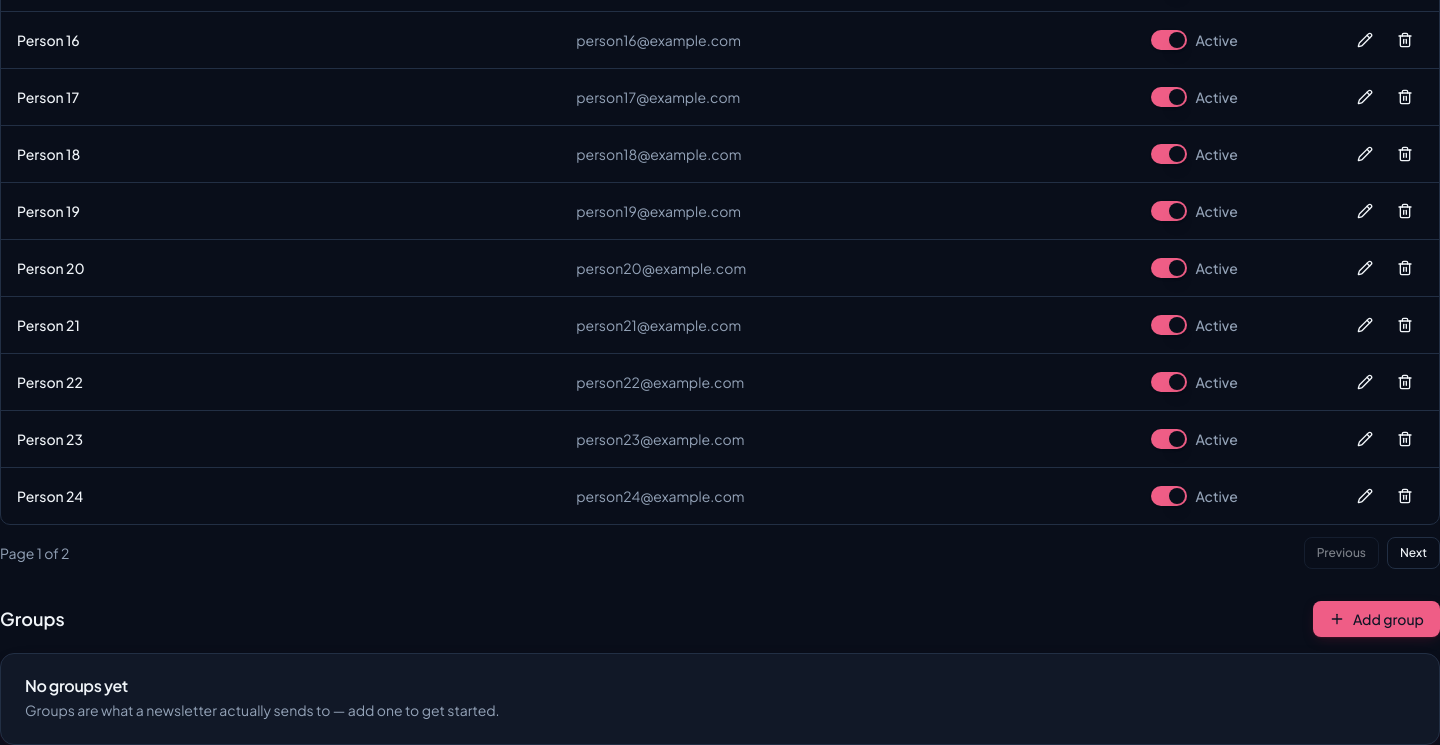
Test: RecipientsPage › paginates a large recipient list with Previous/Next controls
(page scrolled)
Expected: the text "Person 24" is shown, [17,487,83,505]
Expected: the text "Person 25" is not shown
What coordinates should you click on to do the following:
click the button "Next"
I would click on:
 (1414, 553)
Its box is [1387,537,1439,569].
(page scrolled)
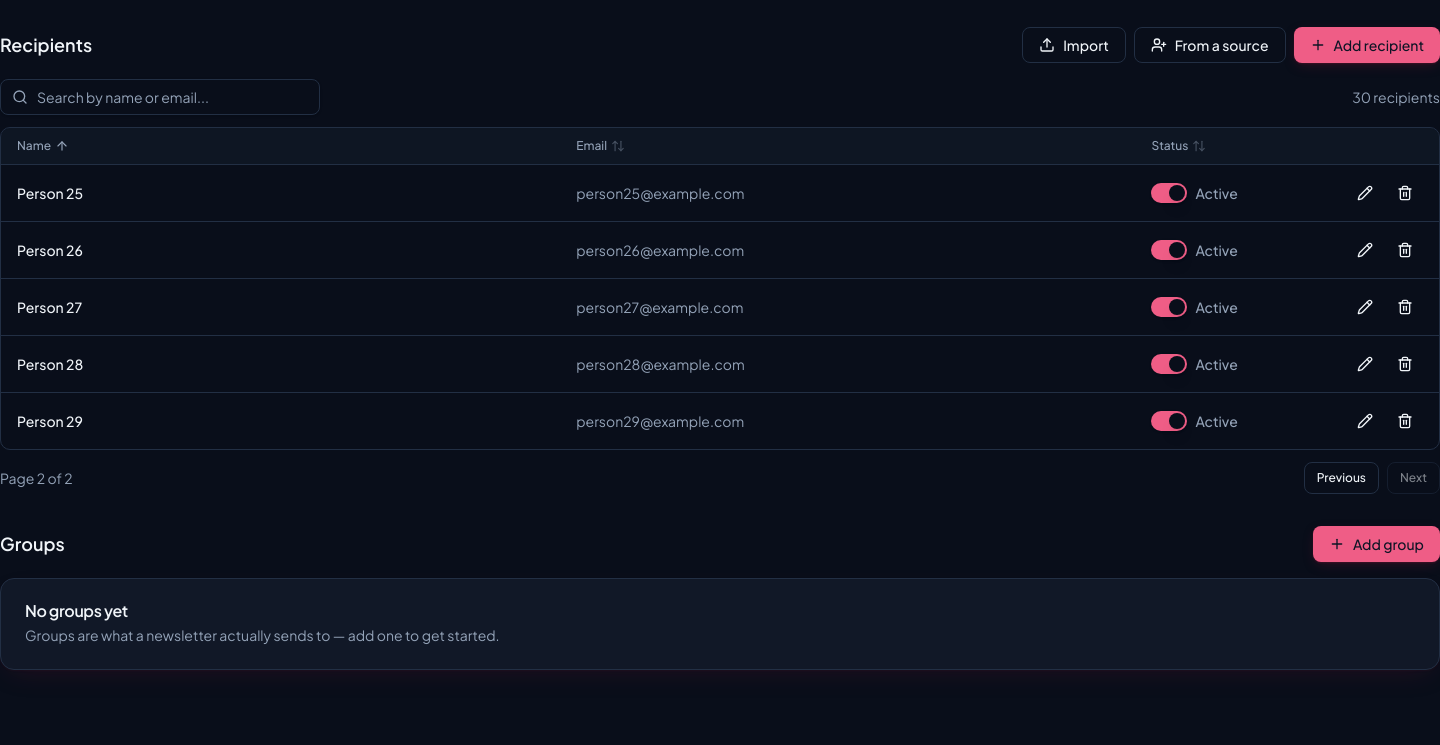
Expected: the text "Person 29" is shown, [17,412,83,430]
Expected: the text "Page 2 of 2" is shown, [0,468,73,488]
Expected: the button "Next" is disabled, [1387,462,1439,494]
